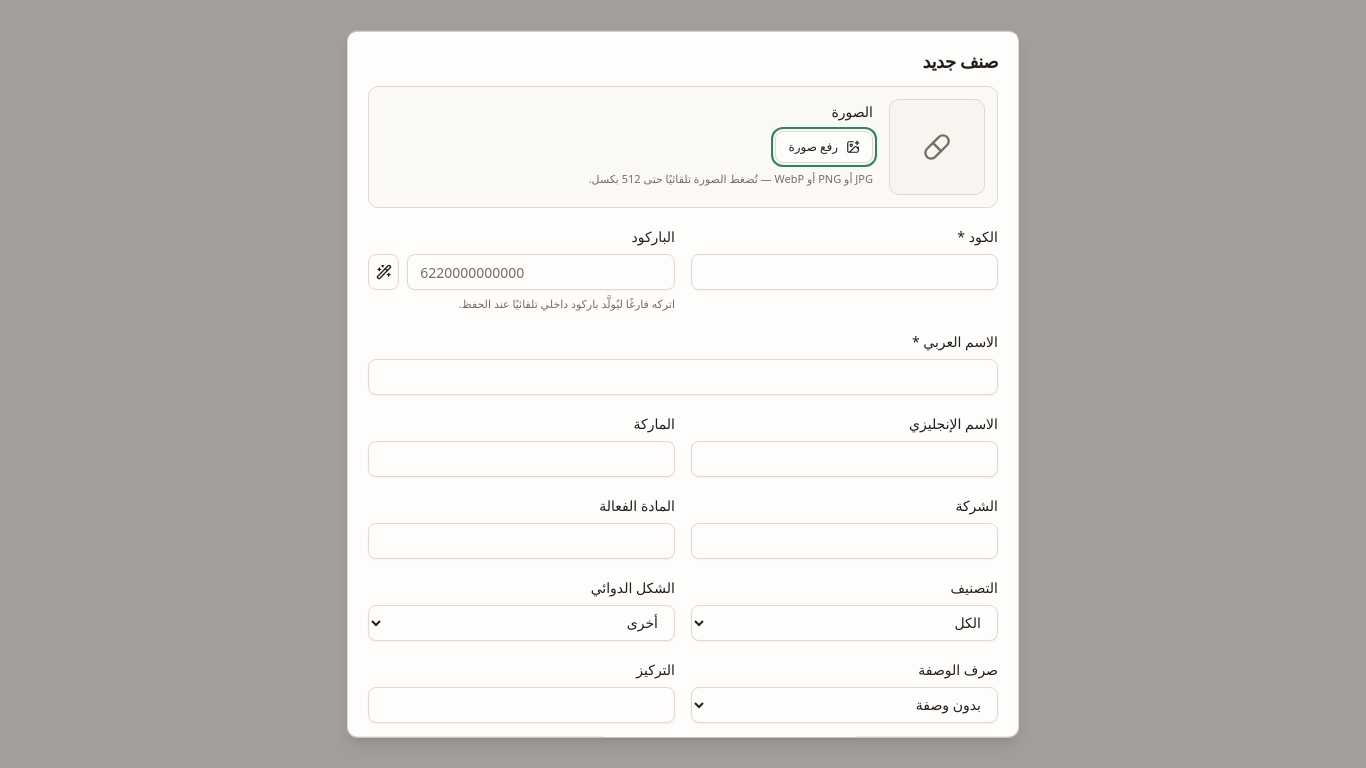
Test: ProductFormDialog stock › refuses to save a stock increase without lot number and expiry
Type "SKU-100" into the field labelled "الكود *".
click(844, 272); type("SKU-100")  # box x1=691 y1=254 x2=998 y2=290
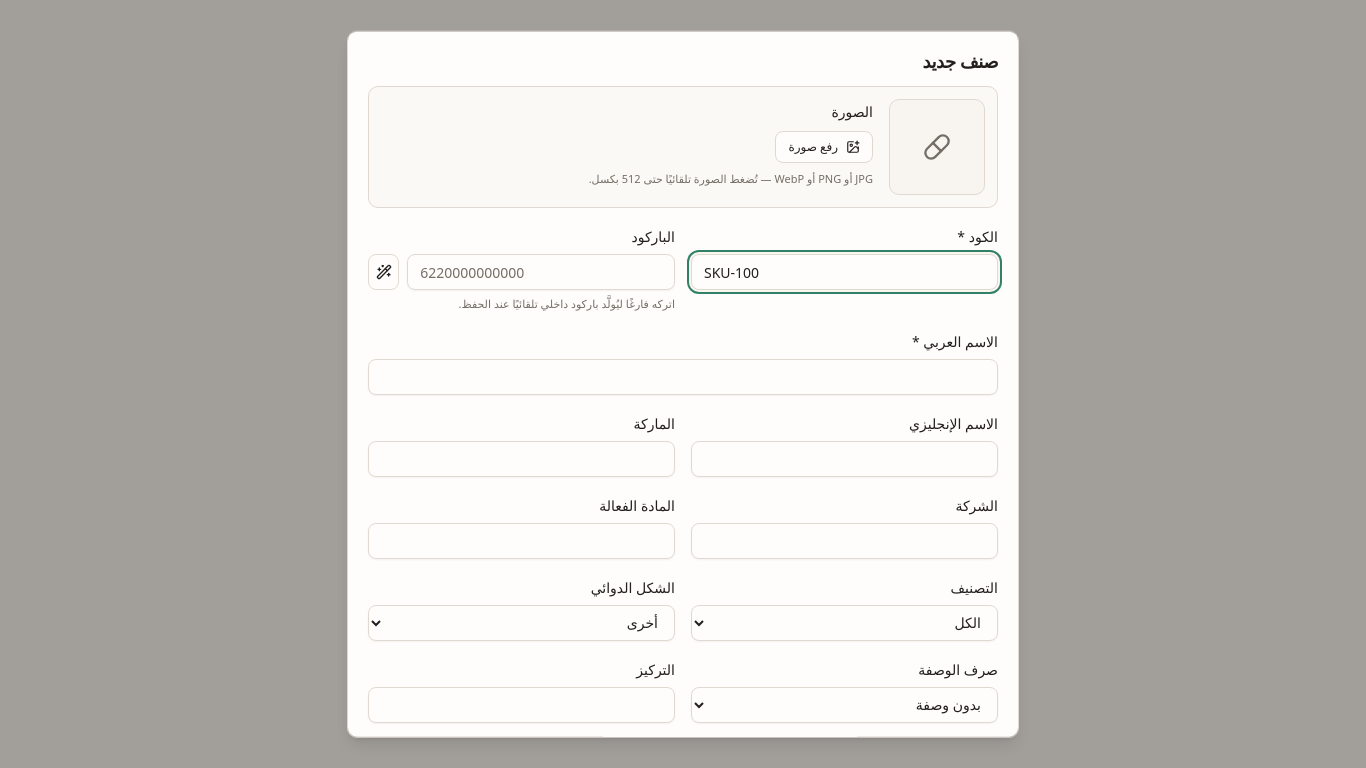
Type "بروفين 400" into the field labelled "الاسم العربي *".
click(683, 376); type("بروفين 400")  # box x1=368 y1=358 x2=998 y2=394
(page scrolled)
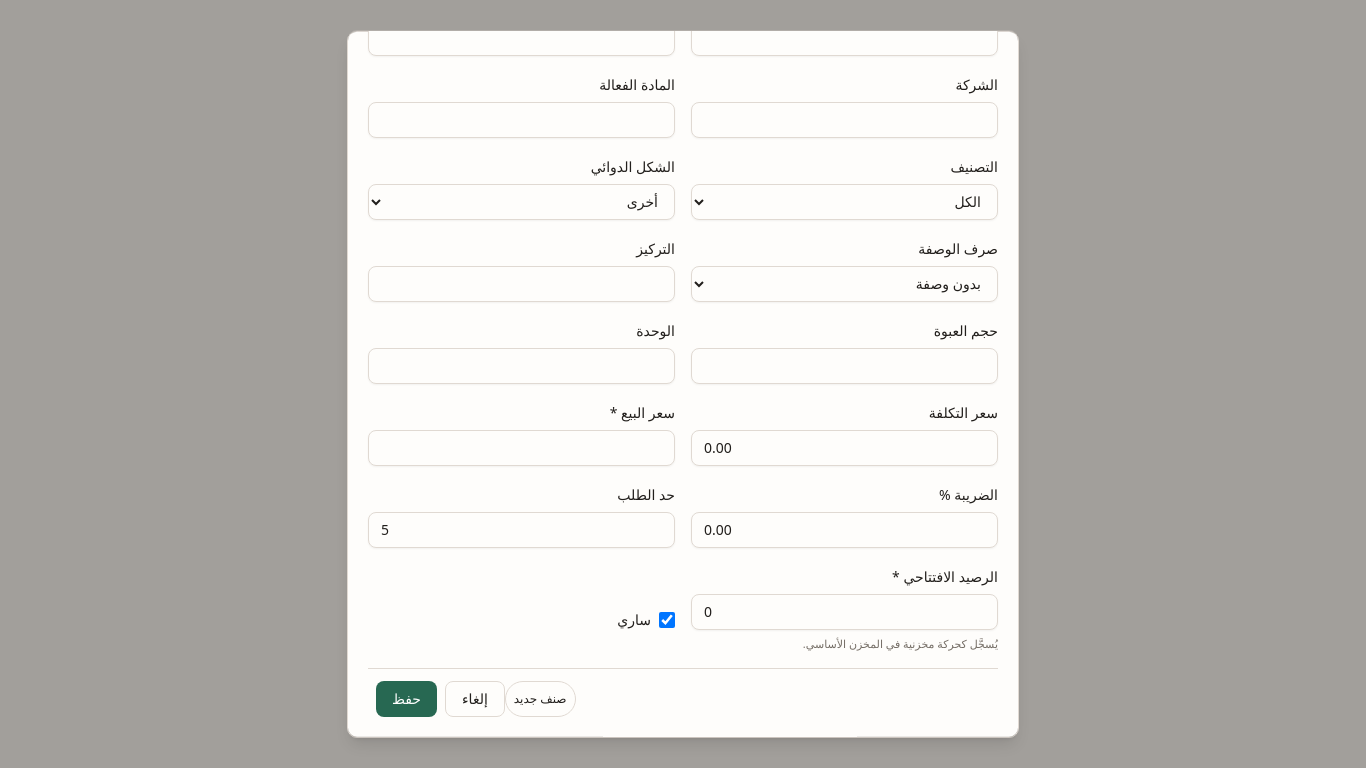
Type "25.00" into the field labelled "سعر البيع *".
click(522, 447); type("25.00")  # box x1=368 y1=429 x2=675 y2=465
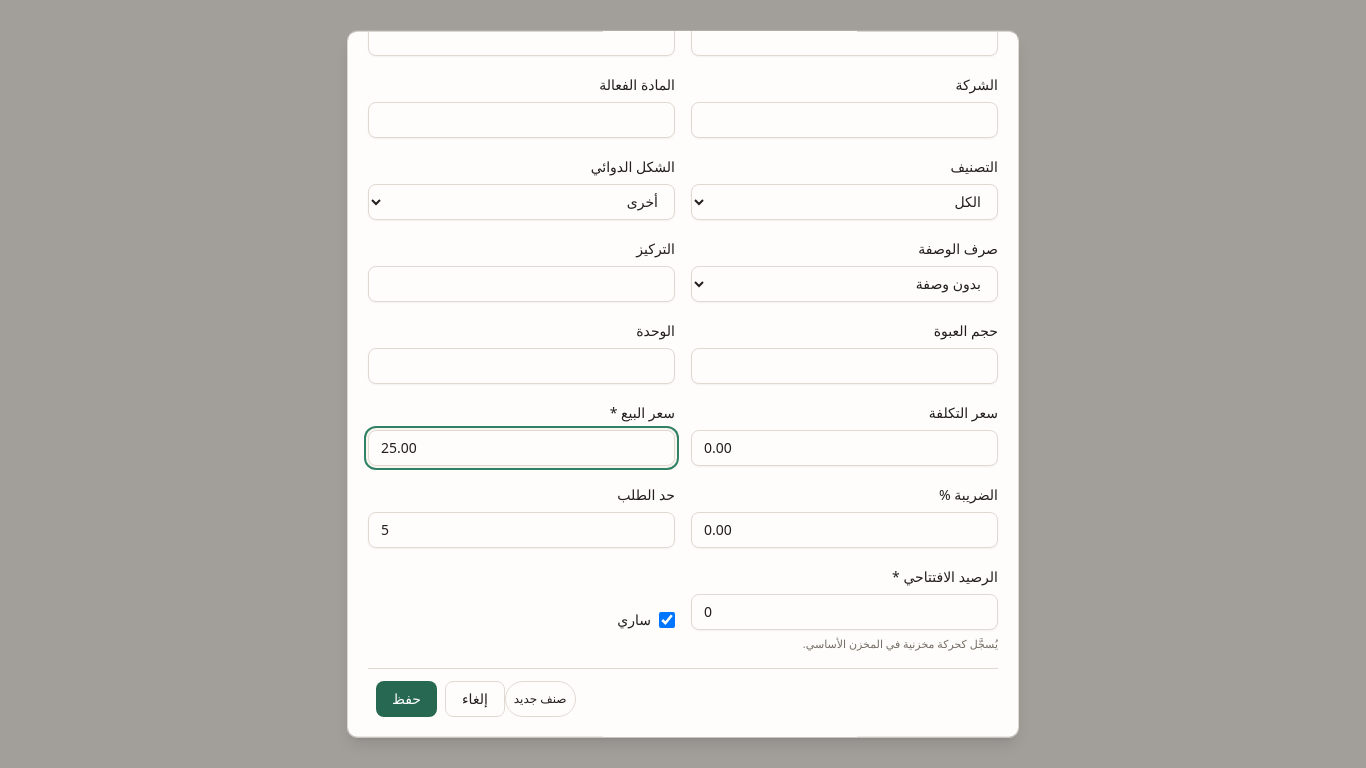
Type "10" into the number field labelled "الرصيد الافتتاحي *".
click(844, 611); type("10")  # box x1=691 y1=593 x2=998 y2=629
(page scrolled)
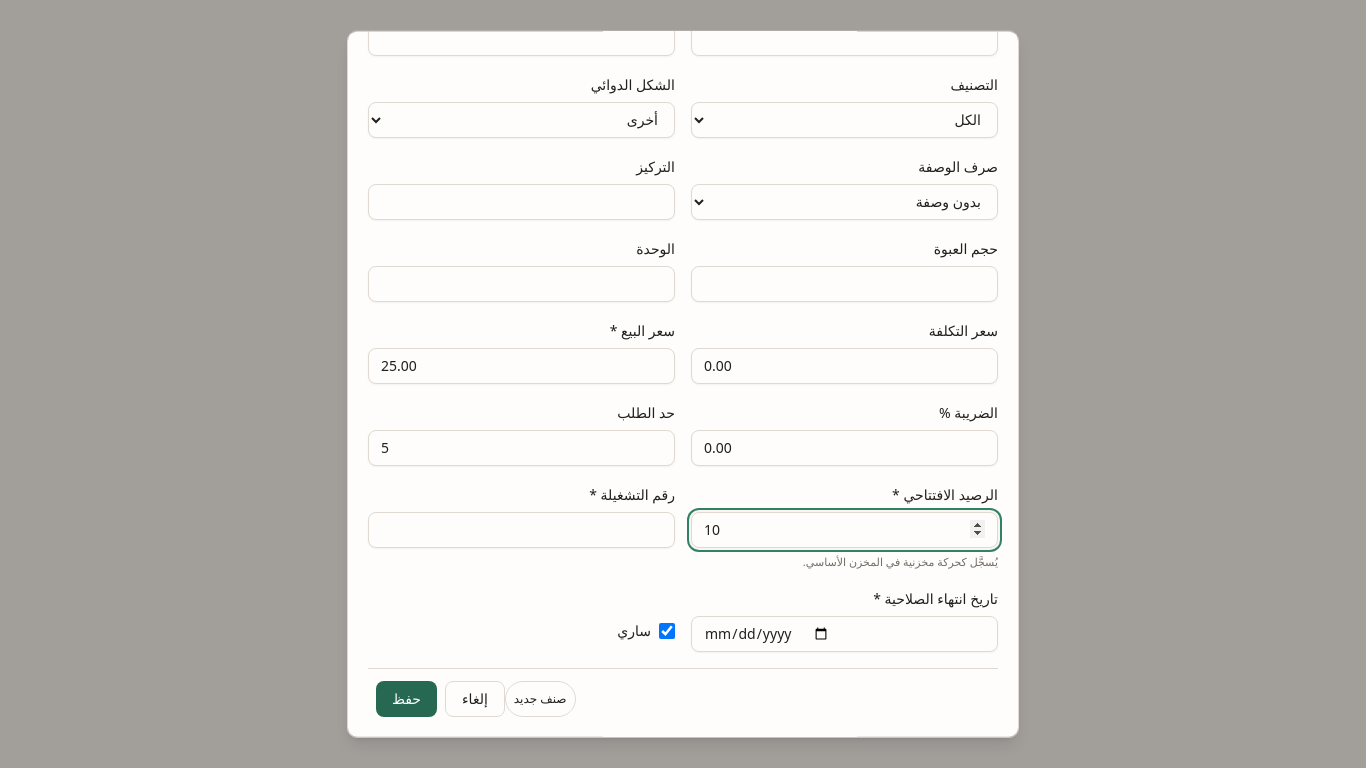
Click the button "حفظ".
click(406, 699)  # box x1=376 y1=681 x2=437 y2=717
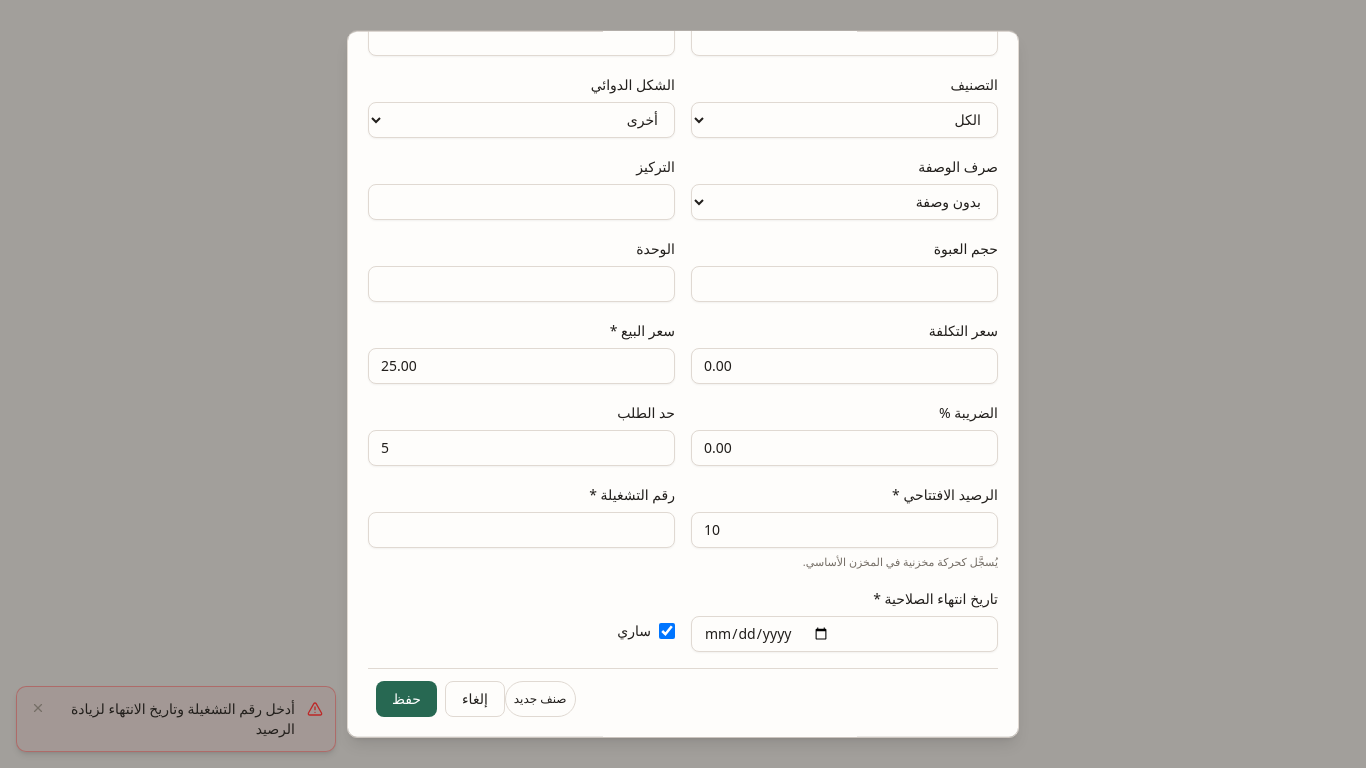
Result: the text "أدخل رقم التشغيلة وتاريخ الانتهاء لزيادة الرصيد" is shown at x1=59 y1=699 x2=295 y2=739
